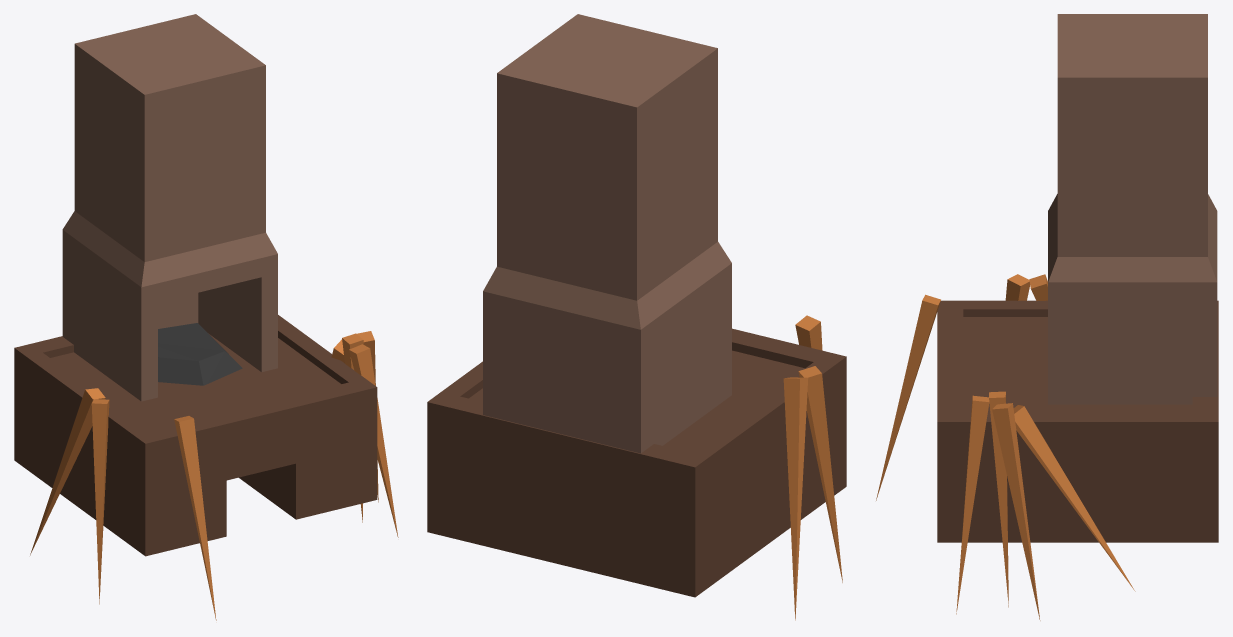
Rendered from Forge 01.FBX.
3 views of the same model, side by side, from view 1: azimuth 30°, elevation 25°; view 2: azimuth 150°, elevation 25°; view 3: azimuth 270°, elevation 25° (orthographic). The views are drawn at different scales.
Visible parts, largest first — view 1: Forge 01; view 2: Forge 01; view 3: Forge 01.
Boxes of the visible parts, x1,y1,x2,y2 form: Forge 01: (14, 14, 398, 620); Forge 01: (427, 14, 846, 620); Forge 01: (876, 14, 1218, 620).
Size of the model in its own units: 204 by 288 by 178.
